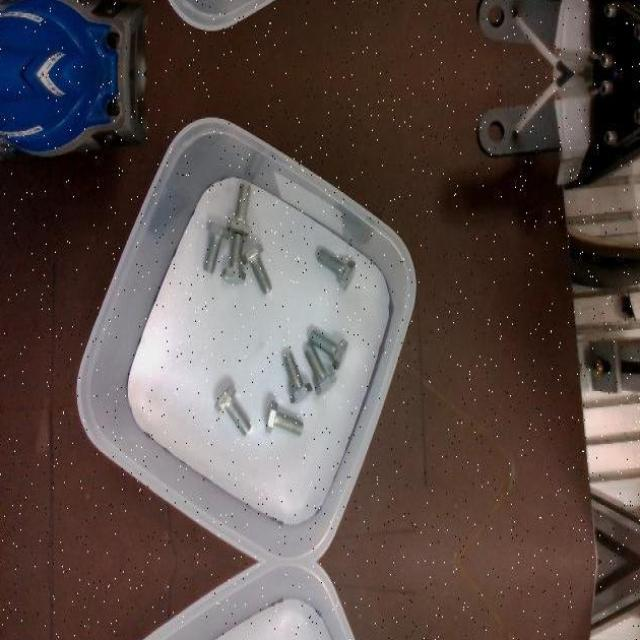screw: (214, 385, 252, 435), (227, 184, 262, 237), (304, 344, 337, 395), (318, 248, 357, 290), (309, 329, 348, 370), (241, 242, 272, 293), (283, 351, 313, 403), (203, 222, 231, 274), (266, 399, 305, 436), (222, 233, 247, 284)
